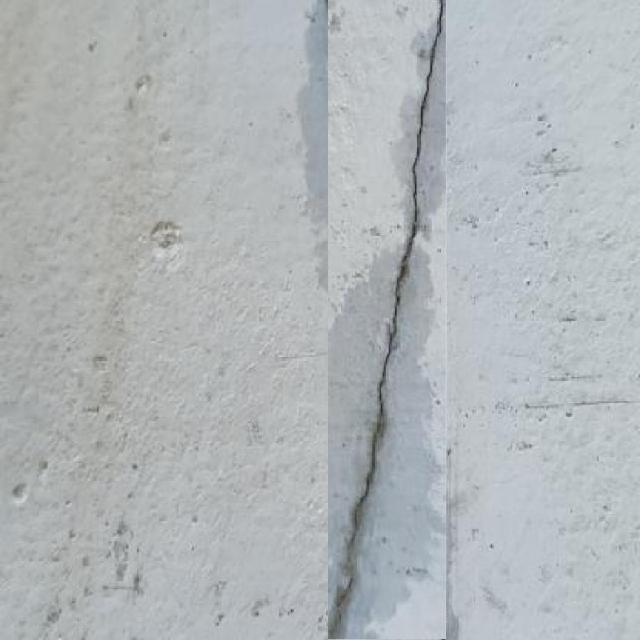Crack: (325, 0, 448, 639)
